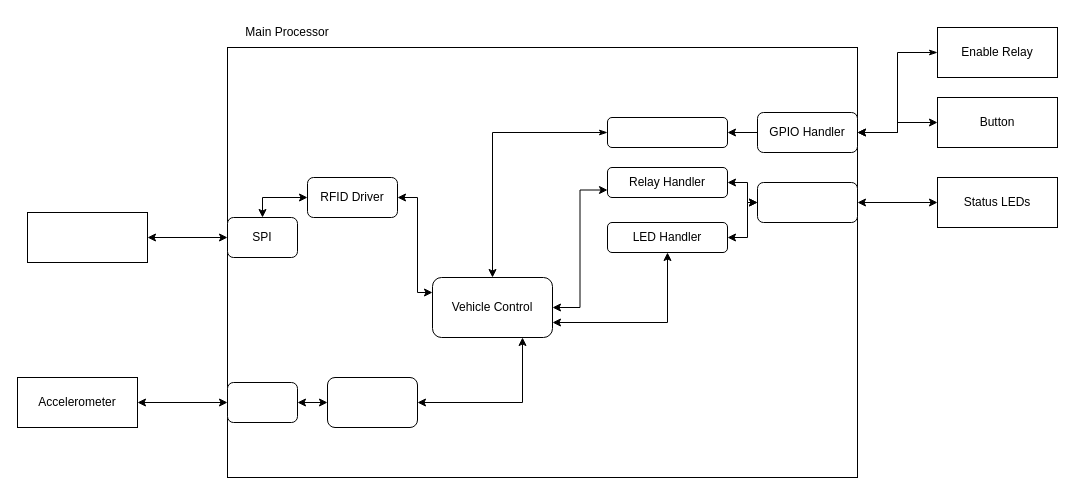
Image size: 1075x495. Some labels were removed from this diagram. Each missing label, with the box of its shape:
Accelerometer Driver: (326, 376, 418, 428)
Button Handler: (606, 116, 728, 148)
I2C: (226, 382, 298, 422)
PWM Handler: (756, 182, 858, 222)
RFID Reader: (26, 212, 148, 262)
